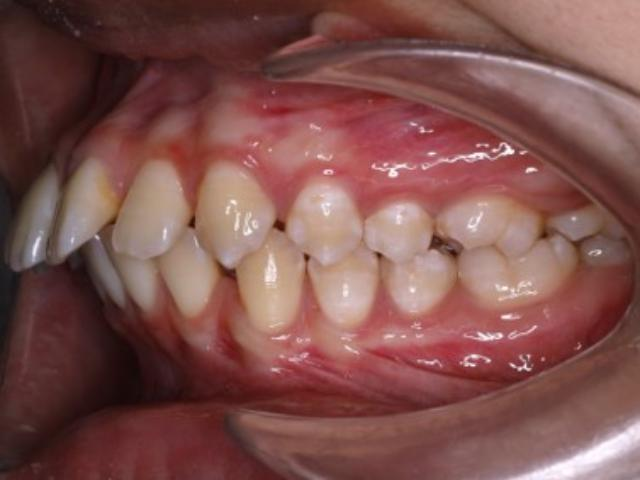canine class II full class: (192, 153, 380, 333)
molar class II 3/4: (432, 179, 588, 310)
